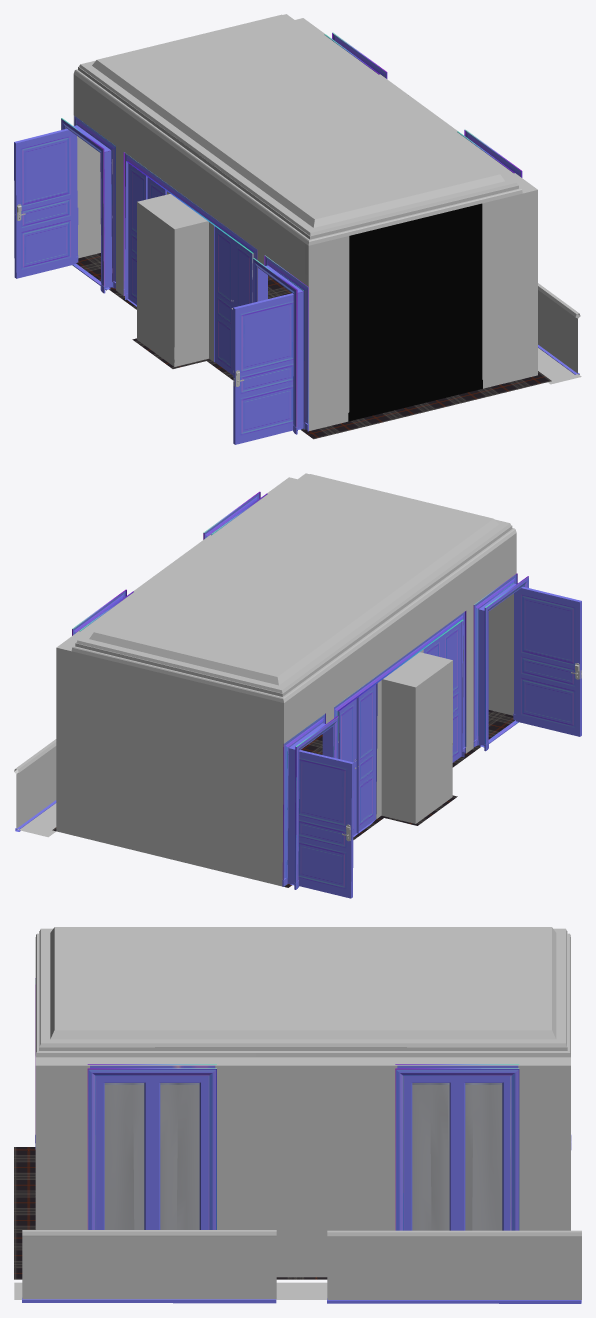
The model's file is SCR_SalonConcerto.fbx.
3 renders of one model, top to bottom at view 1: azimuth 30°, elevation 25°; view 2: azimuth 150°, elevation 25°; view 3: azimuth 270°, elevation 25°, orthographic. The views are drawn at different scales.
Visible parts, largest first — view 1: polySurface446, polySurface445, polySurface89; view 2: polySurface446, polySurface445, polySurface89; view 3: polySurface446, polySurface9, polySurface445, polySurface89.
Boxes of the visible parts, left/top/right/bottom form: polySurface446: left=73, top=14, right=581, bottom=439; polySurface445: left=14, top=32, right=579, bottom=444; polySurface89: left=73, top=14, right=522, bottom=245; polySurface446: left=14, top=474, right=516, bottom=887; polySurface445: left=15, top=491, right=581, bottom=898; polySurface89: left=71, top=473, right=516, bottom=702; polySurface446: left=14, top=927, right=581, bottom=1299; polySurface9: left=104, top=1083, right=502, bottom=1230; polySurface445: left=22, top=978, right=581, bottom=1303; polySurface89: left=35, top=927, right=570, bottom=1057.
Size of the model in its own units: 551 by 323 by 704.
